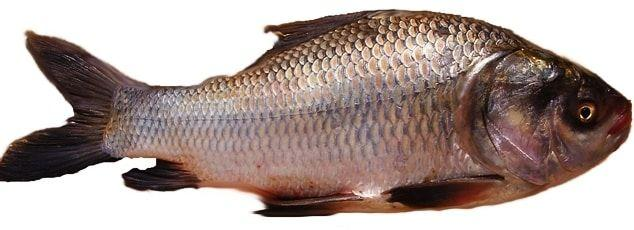Indian Carp: (0, 11, 632, 217)
